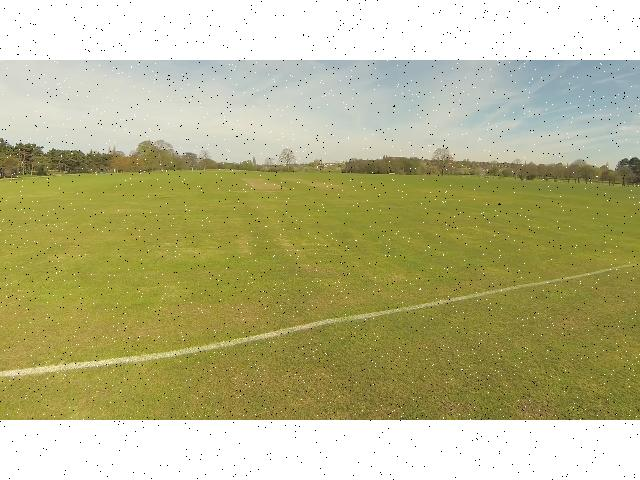Anti-Drone: (329, 158, 349, 166)
